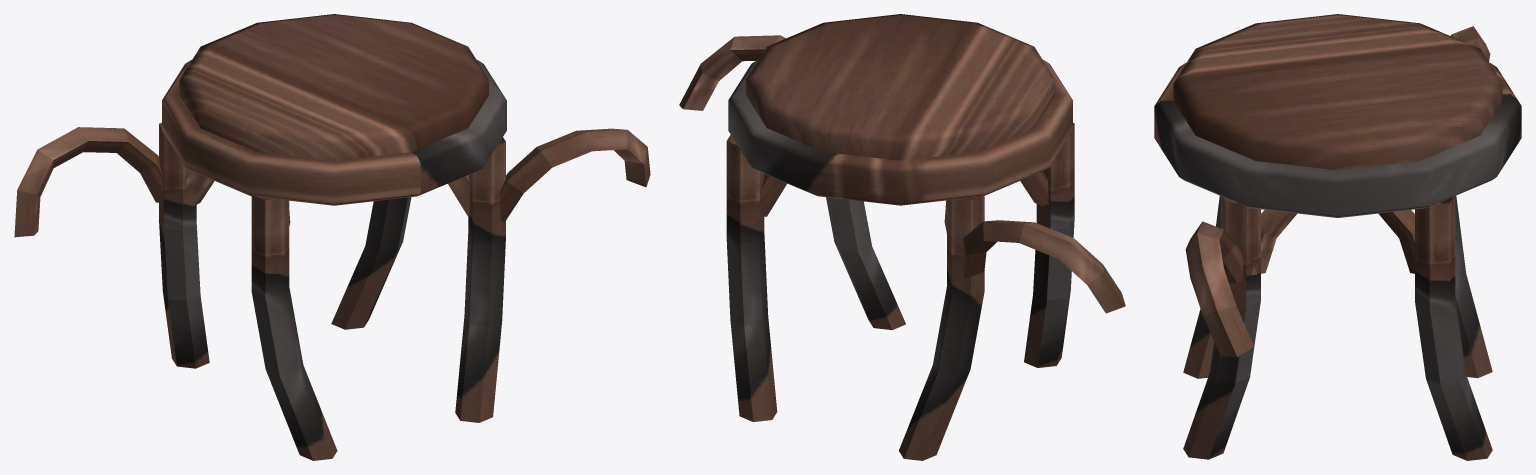
Rendered from Stool.glb.
3 renders of one model, left to right at view 1: azimuth 30°, elevation 25°; view 2: azimuth 150°, elevation 25°; view 3: azimuth 270°, elevation 25°, orthographic. The views are drawn at different scales.
Parts seen in each view (by area): view 1: Stool; view 2: Stool; view 3: Stool.
Boxes of the visible parts, box(x1,y1,x2,y2) form: Stool: box(14, 14, 650, 460); Stool: box(679, 14, 1125, 460); Stool: box(1154, 14, 1521, 460).
Size of the model in its own units: 9.89 by 5.45 by 5.46.
Materials: 5 (5 with a texture image).
